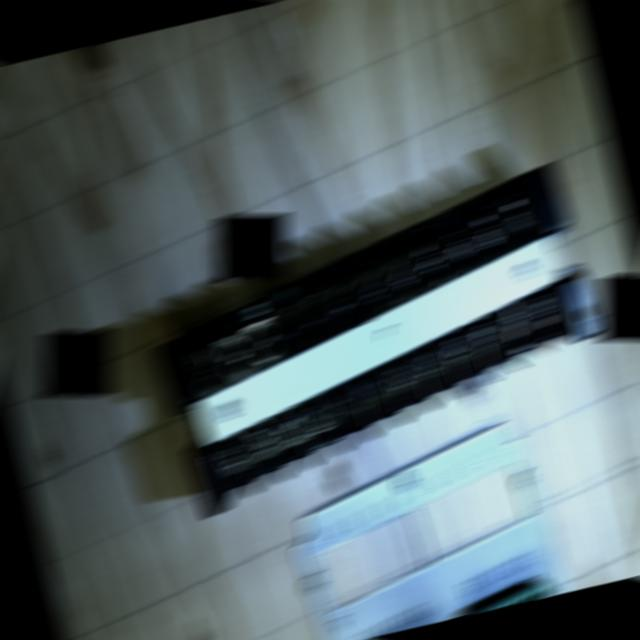Phillips_Block: (134, 165, 624, 514)
